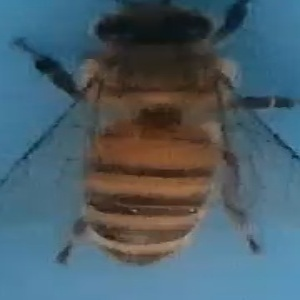bee: (13, 1, 295, 273)
